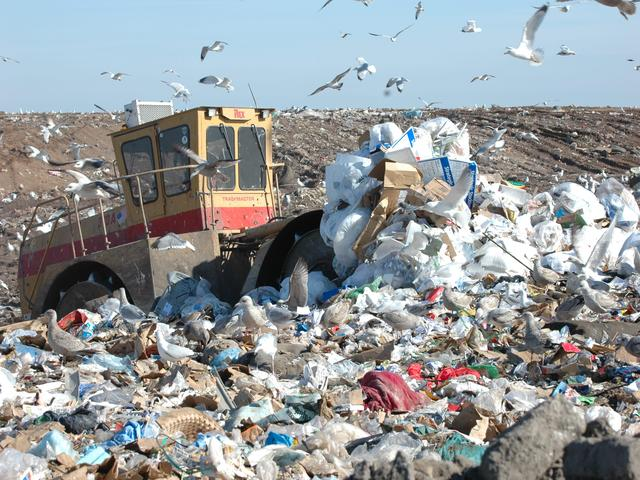garbage: (108, 327, 464, 443)
